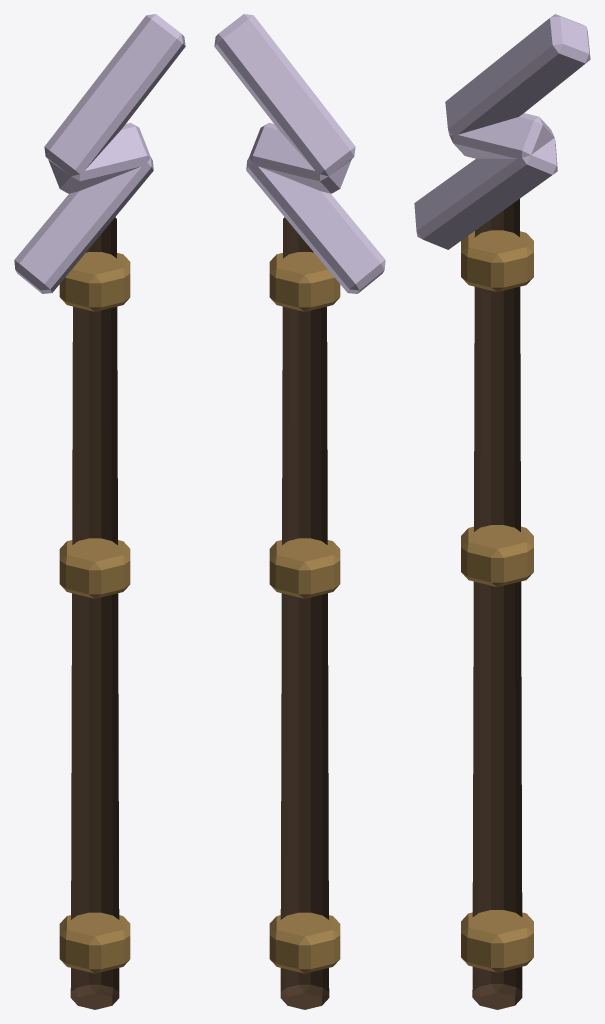
The model's file is mage_lightning.glb.
3 views of the same model, side by side, from view 1: azimuth 30°, elevation 25°; view 2: azimuth 150°, elevation 25°; view 3: azimuth 330°, elevation 25° (orthographic). The views are drawn at different scales.
Parts seen in each view (by area): view 1: weapon.022; view 2: weapon.022; view 3: weapon.022.
Part boxes in pixels (box(x1,y1,x2,y2)): weapon.022: box(14, 14, 185, 1009); weapon.022: box(214, 14, 385, 1009); weapon.022: box(414, 14, 590, 1009).
Size of the model in its own units: 0.3826 by 2.1 by 0.1386.
